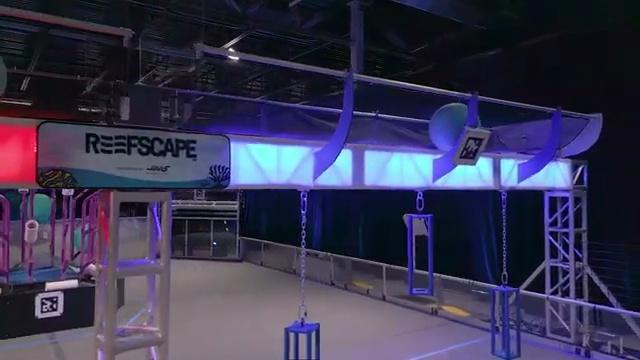ALGAE: (429, 103, 483, 154)
